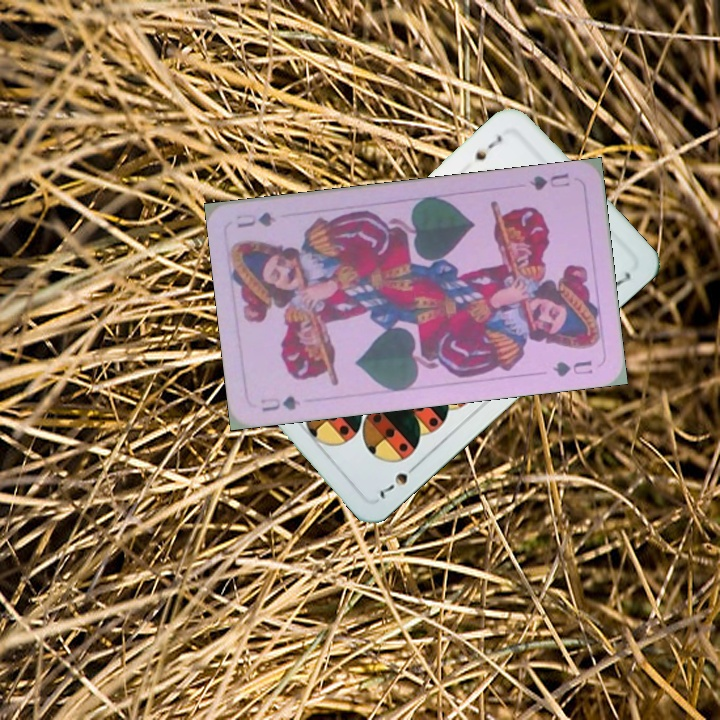GU: (525, 169, 572, 193), (257, 392, 303, 414)
S7: (375, 459, 422, 502), (468, 130, 505, 165)
